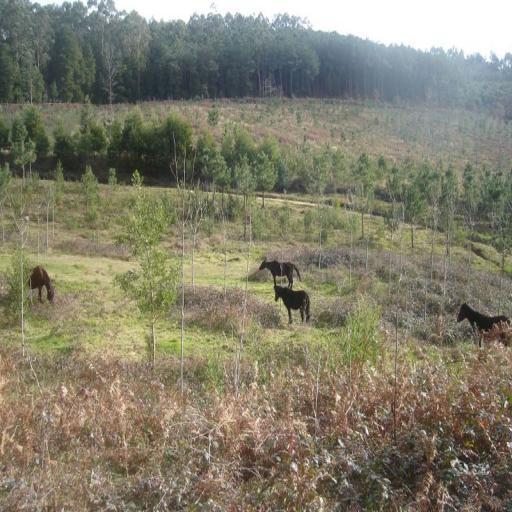horse: (456, 301, 512, 350), (272, 280, 312, 326), (260, 254, 301, 290), (27, 263, 55, 303)
